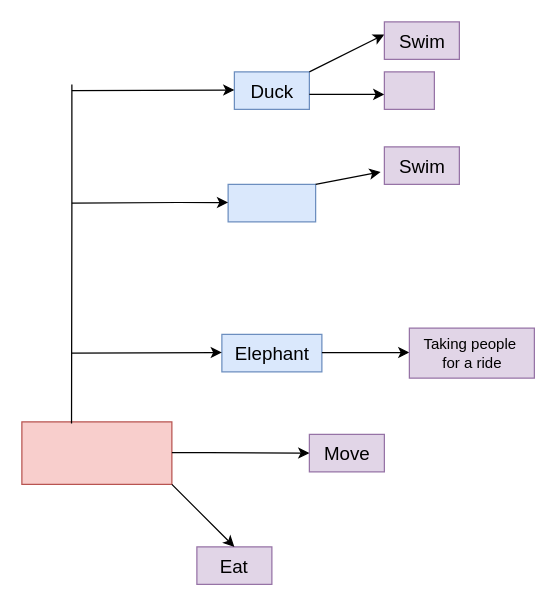
The diagram is 556 pixels wide and 606 high, and some of its shapes have lost their labels. The centre of each missing label's shape, as x and y in pixels:
"Animal" goes at pixel 96 452.
"Fly" goes at pixel 408 90.
"Pinguin" goes at pixel 271 202.
